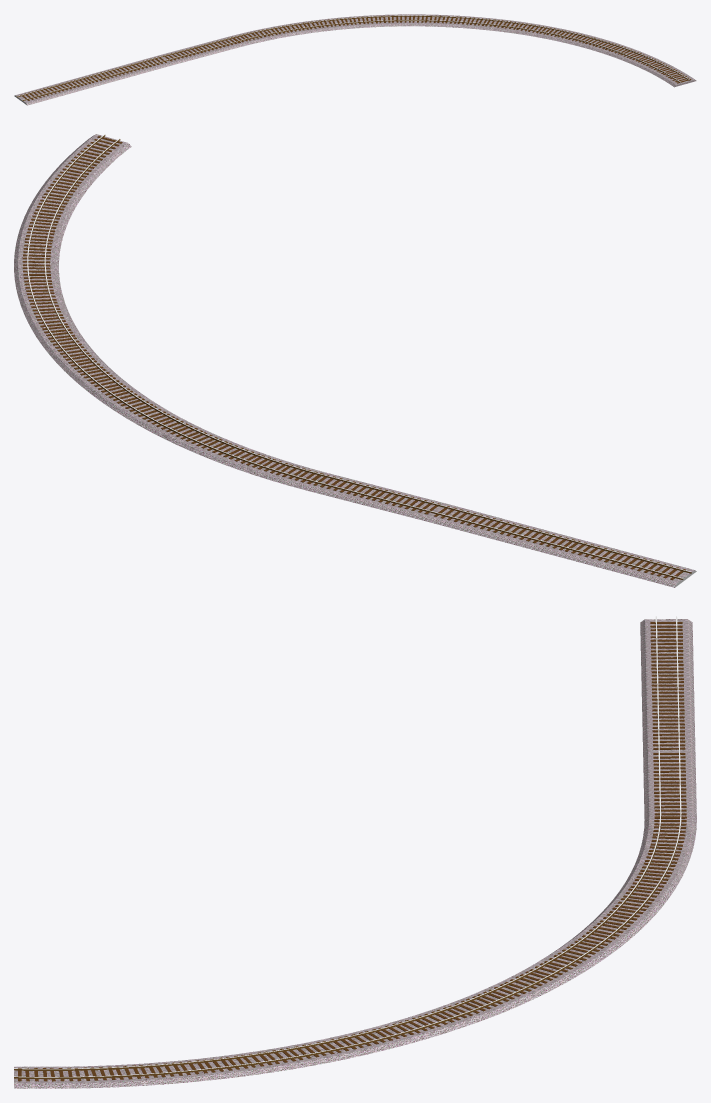
Rendered from GMLID_55518178_9051_1323.dae.
3 views of the same model, one above another, from view 1: azimuth 30°, elevation 25°; view 2: azimuth 150°, elevation 25°; view 3: azimuth 270°, elevation 25° (orthographic). The views are drawn at different scales.
Size of the model in its own units: 118 by 68.76 by 3.9.
5 materials, 1 textured.
